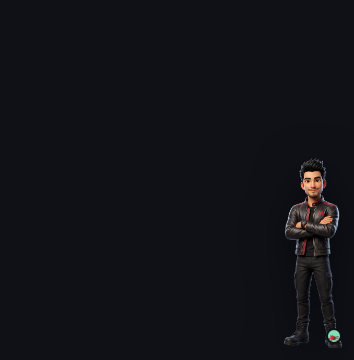
Scenario: MascotOverlay — real Gemini speech › replaces the canned line with the Gemini line when the server answers
Click the button named "น้องมอเตอร์บอย".
click(313, 253)  # box [284,158,342,348]
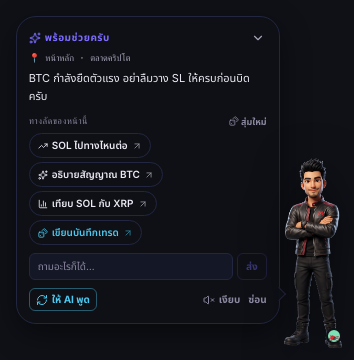
Expected: the message shows "BTC กำลังยืดตัวแรง", [29,71,250,103]
